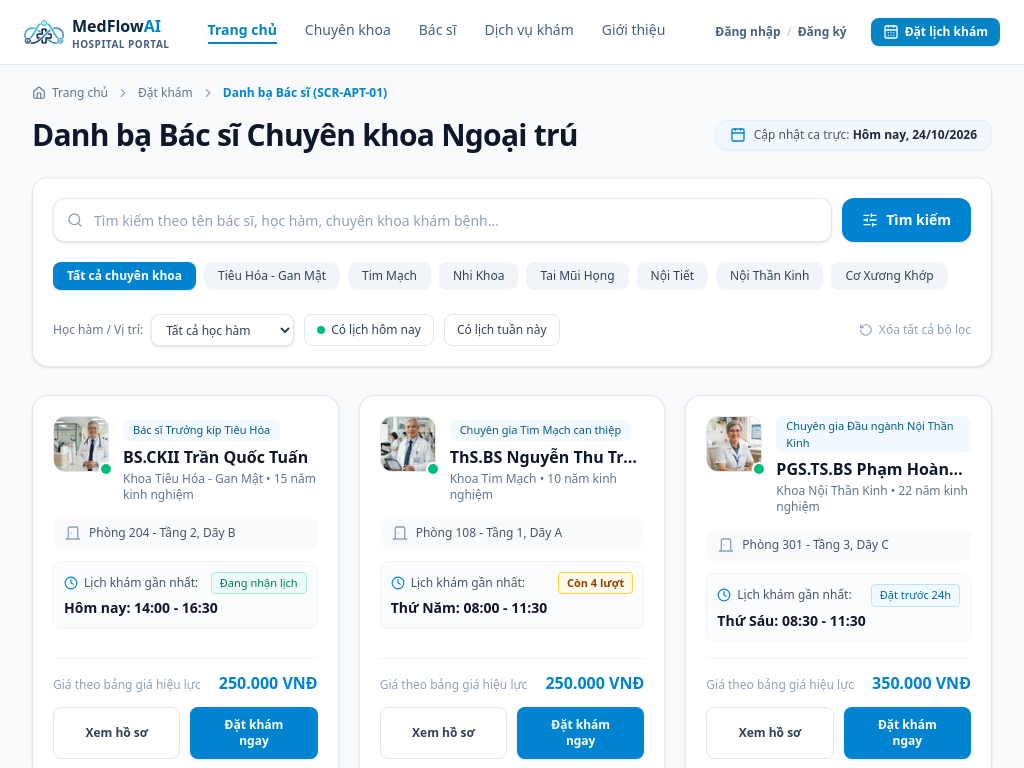
Test: DoctorSearchPage (SCR-APT-01) › filters doctors when searching by keyword
The width and height of the screenshot is (1024, 768).
expect the heading "BS.CKII Trần Quốc Tuấn" is shown: met, box top-left (123, 444), bottom-right (318, 468)
In the field with placeholder "Tìm kiếm theo tên bác sĩ, học hàm, chuyên khoa khám bệnh...": {"x": 443, "y": 220} top-left (53, 198), bottom-right (832, 242), type "Phạm Hoàng Long"
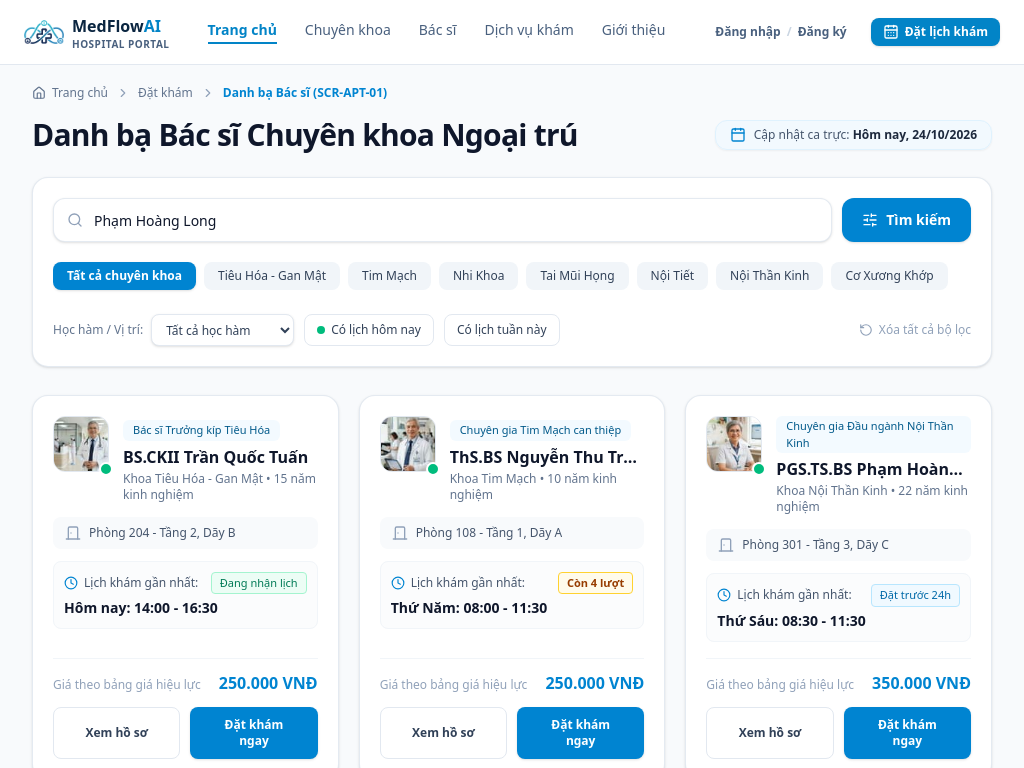
Click the button "Tìm kiếm": {"x": 907, "y": 220} top-left (842, 198), bottom-right (971, 242)
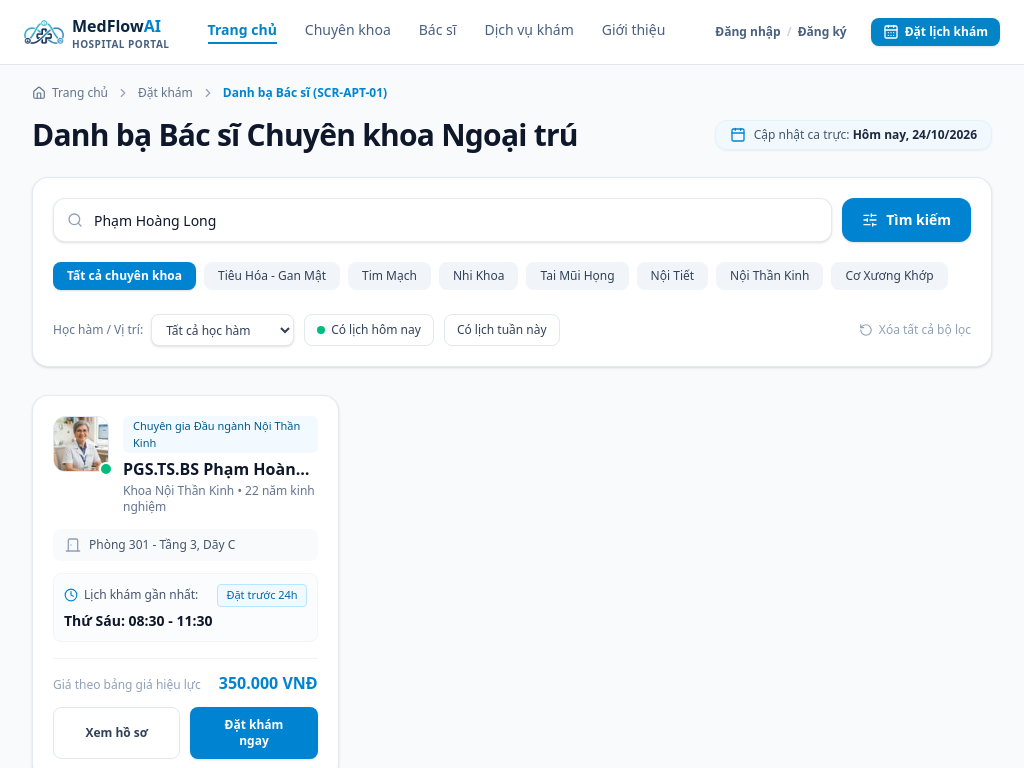
expect the heading "PGS.TS.BS Phạm Hoàng Long" is shown: met, box top-left (123, 457), bottom-right (318, 481)
expect the heading "BS.CKII Trần Quốc Tuấn" is gone: met
